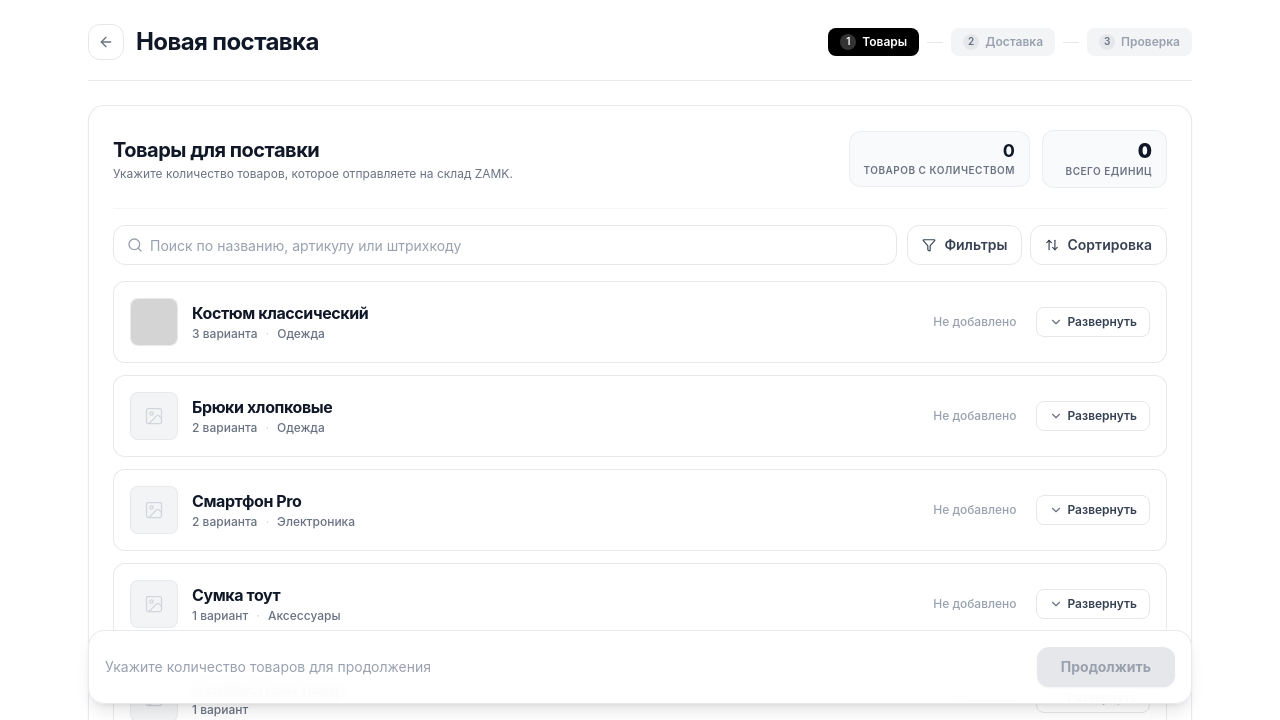
Test: SellerSupplyNew Component (SUP.2B3.1 - Category Name & Filter Chips) › P: reopening filter popover after removing chips reflects updated state in drafts
Expected: the heading "Костюм классический" is shown, [192,302,368,324]
# Apply Category and Color
Click the button "Фильтры": {"x": 965, "y": 245} [907,225,1022,265]
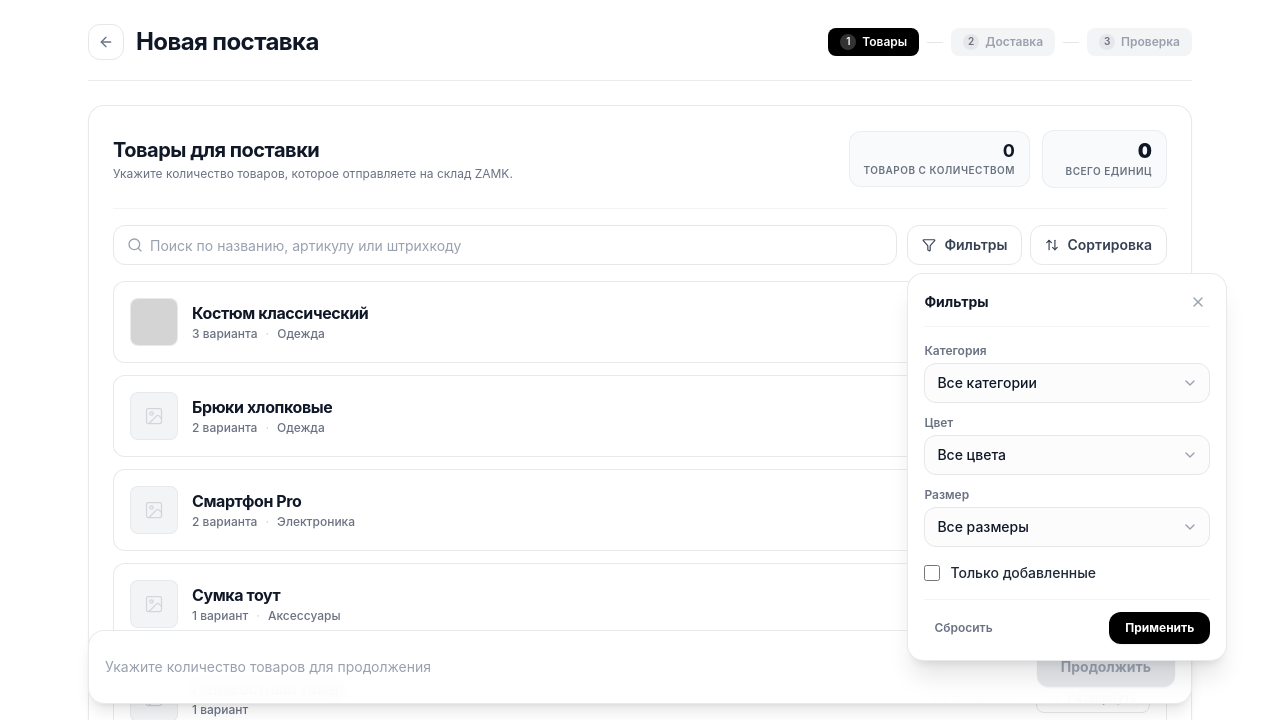
Select "Одежда" in the dropdown named "Категория": {"x": 1067, "y": 383} [924,363,1210,403]
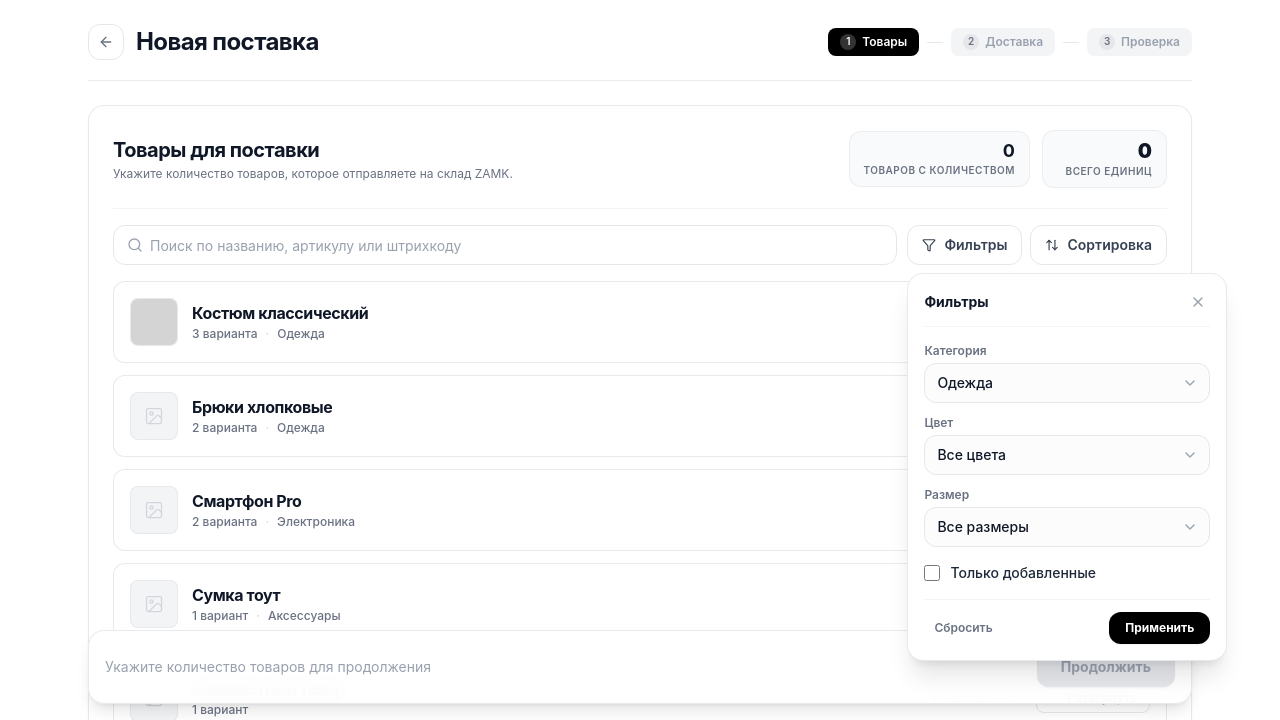
Select "Серый" in the dropdown named "Цвет": {"x": 1067, "y": 455} [924,435,1210,475]
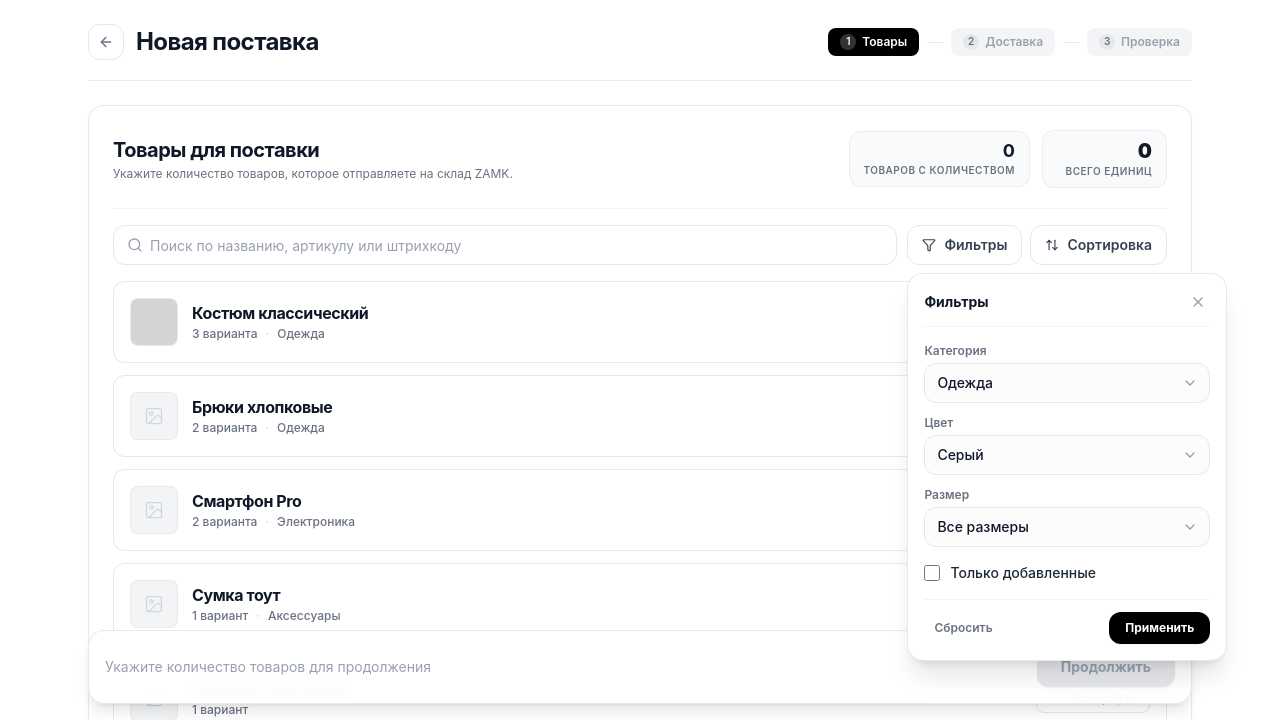
Click the button "Применить": {"x": 1160, "y": 628} [1109,612,1210,644]
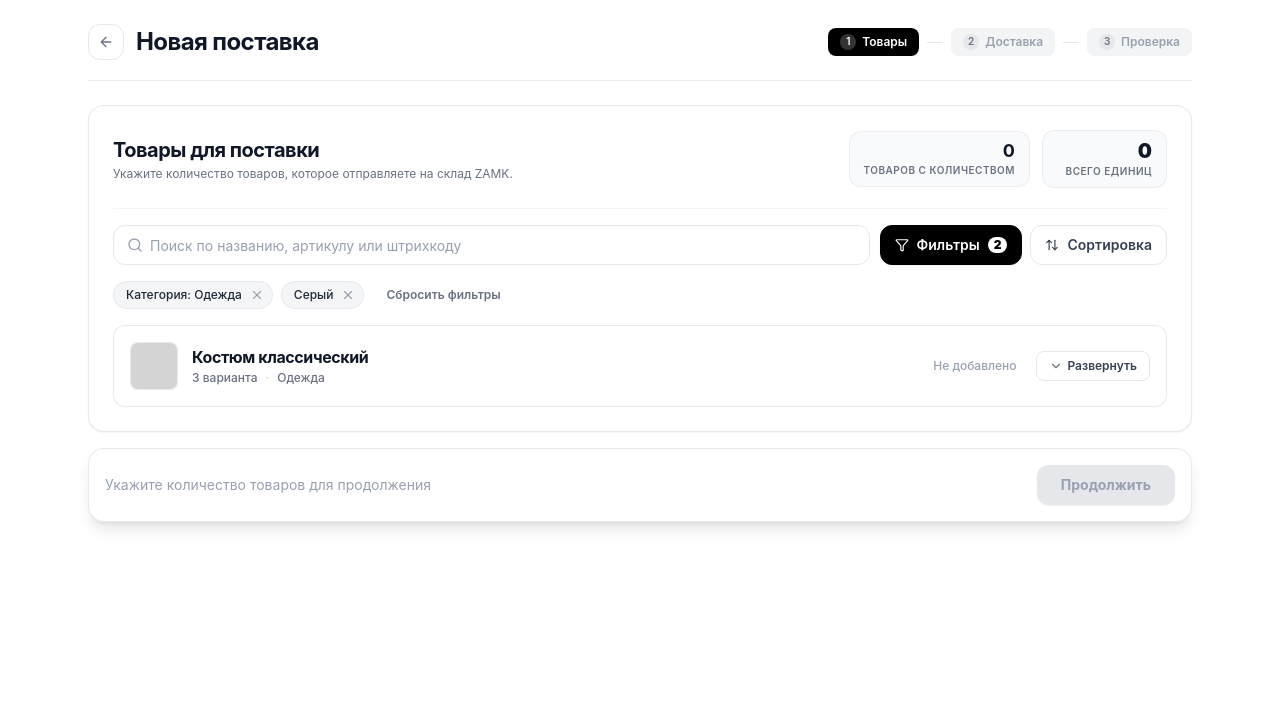
# Remove Category chip
Click the button named "Удалить фильтр категории": {"x": 257, "y": 295} [248,286,266,304]
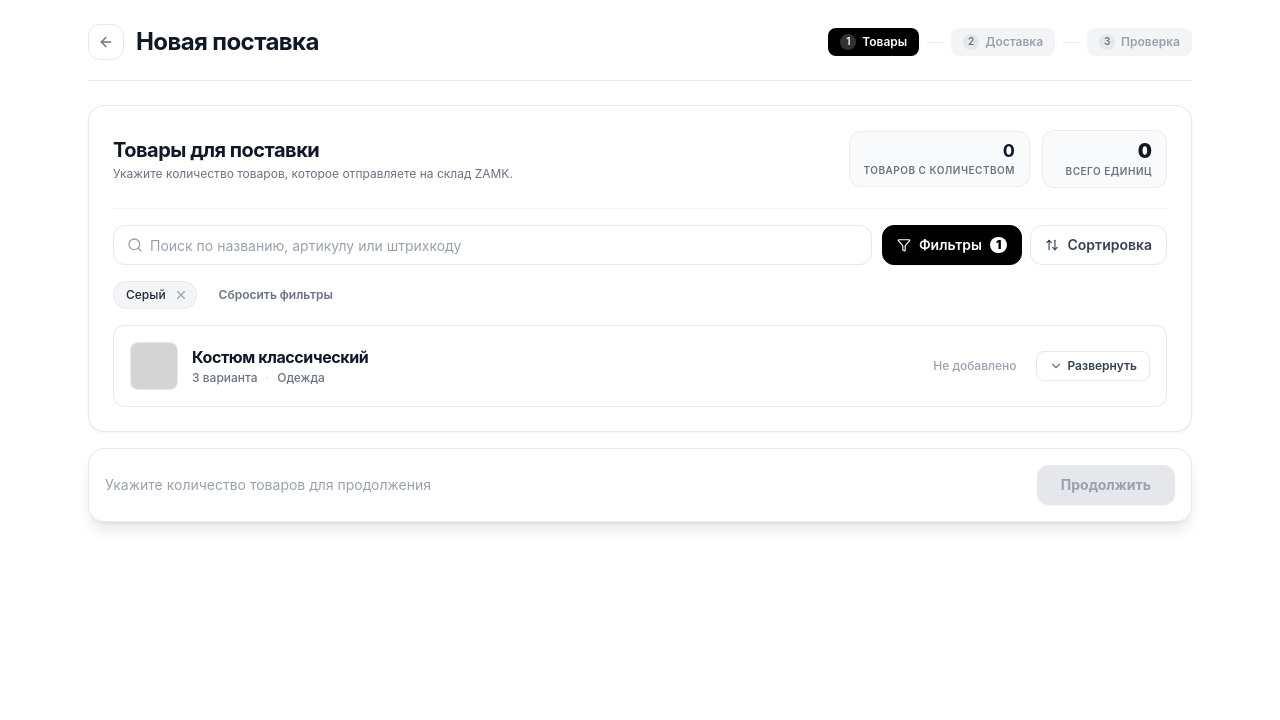
# Reopen filter popover
Click the button "Фильтры 1": {"x": 952, "y": 245} [882,225,1022,265]
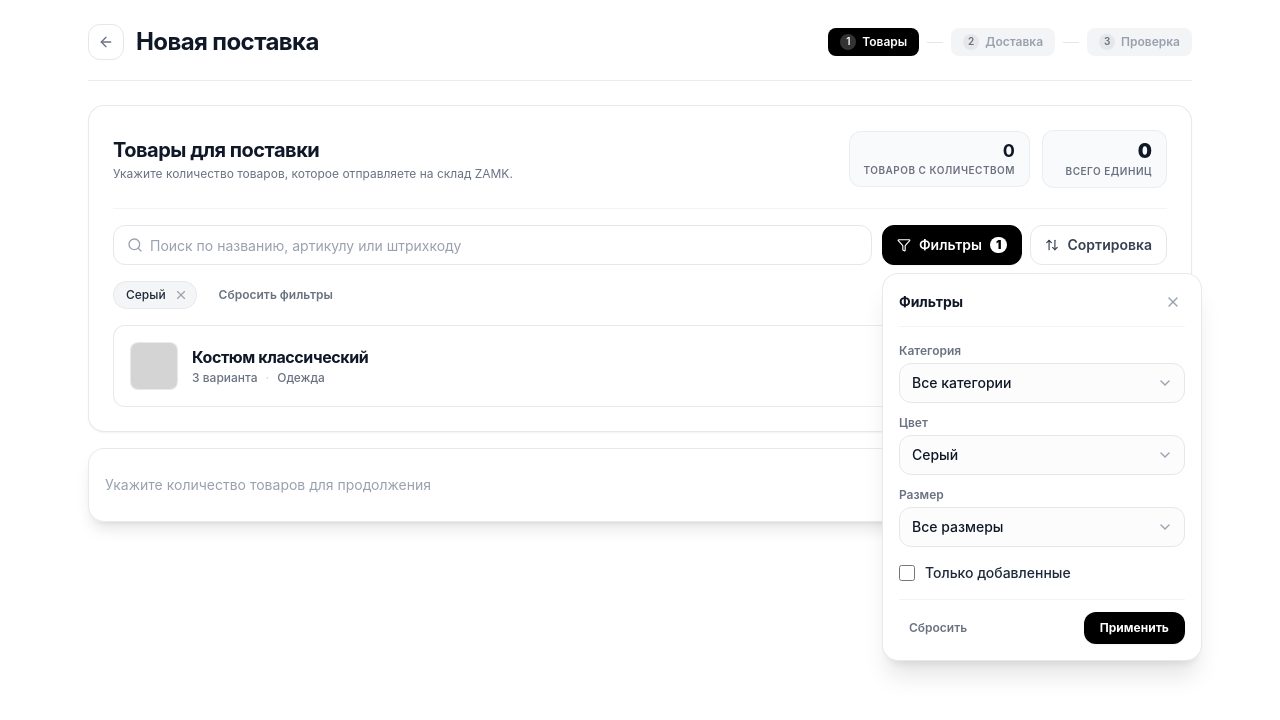
Result: the dropdown named "Категория" shows "Все категории" at [899,363,1185,403]
Result: the dropdown named "Цвет" shows "Серый" at [899,435,1185,475]
